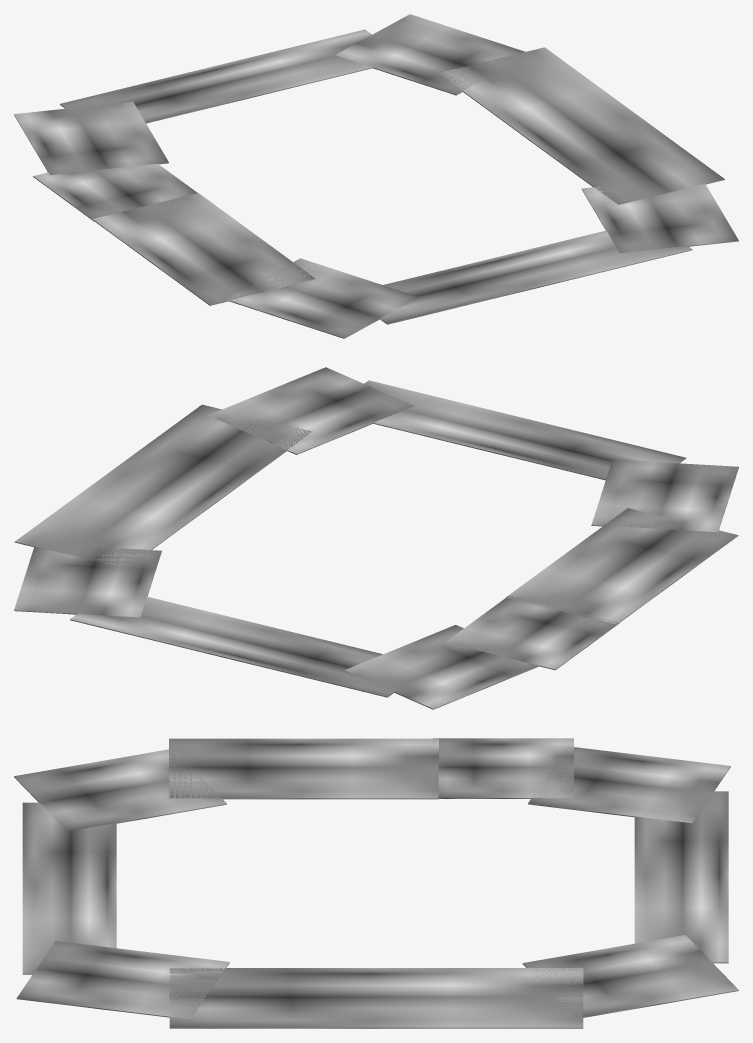
The model's file is CourseDemo.FBX.
3 views of the same model, one above another, from view 1: azimuth 30°, elevation 25°; view 2: azimuth 150°, elevation 25°; view 3: azimuth 270°, elevation 25° (orthographic). The views are drawn at different scales.
Visible parts, largest first — view 1: Box008, Box001, Box006, Box005, Box003, Box004, Box009, Box007, Box002; view 2: Box008, Box001, Box006, Box005, Box007, Box004, Box009, Box003, Box002; view 3: Box008, Box001, Box006, Box005, Box007, Box004, Box009, Box003, Box002.
Part boxes in pixels (x1,y1,x2,y2): Box008: (439, 47, 724, 204); Box001: (93, 193, 315, 305); Box006: (60, 29, 372, 123); Box005: (380, 230, 692, 324); Box003: (14, 101, 168, 174); Box004: (227, 258, 418, 338); Box009: (335, 14, 525, 95); Box007: (581, 184, 738, 252); Box002: (33, 163, 197, 221); Box008: (14, 404, 312, 568); Box001: (505, 508, 738, 624); Box006: (70, 596, 394, 697); Box005: (364, 380, 686, 480); Box007: (208, 367, 413, 454); Box004: (591, 459, 738, 532); Box009: (14, 546, 161, 617); Box003: (345, 625, 539, 709); Box002: (445, 596, 619, 670); Box008: (169, 968, 583, 1028); Box001: (169, 738, 438, 799); Box006: (634, 791, 728, 963); Box005: (22, 802, 116, 974); Box007: (16, 941, 229, 1018); Box004: (14, 749, 226, 831); Box009: (522, 935, 738, 1017); Box003: (528, 747, 730, 823); Box002: (432, 738, 573, 798).
Size of the model in its own units: 918 by 972 by 1.42.
1 material, 1 textured.
